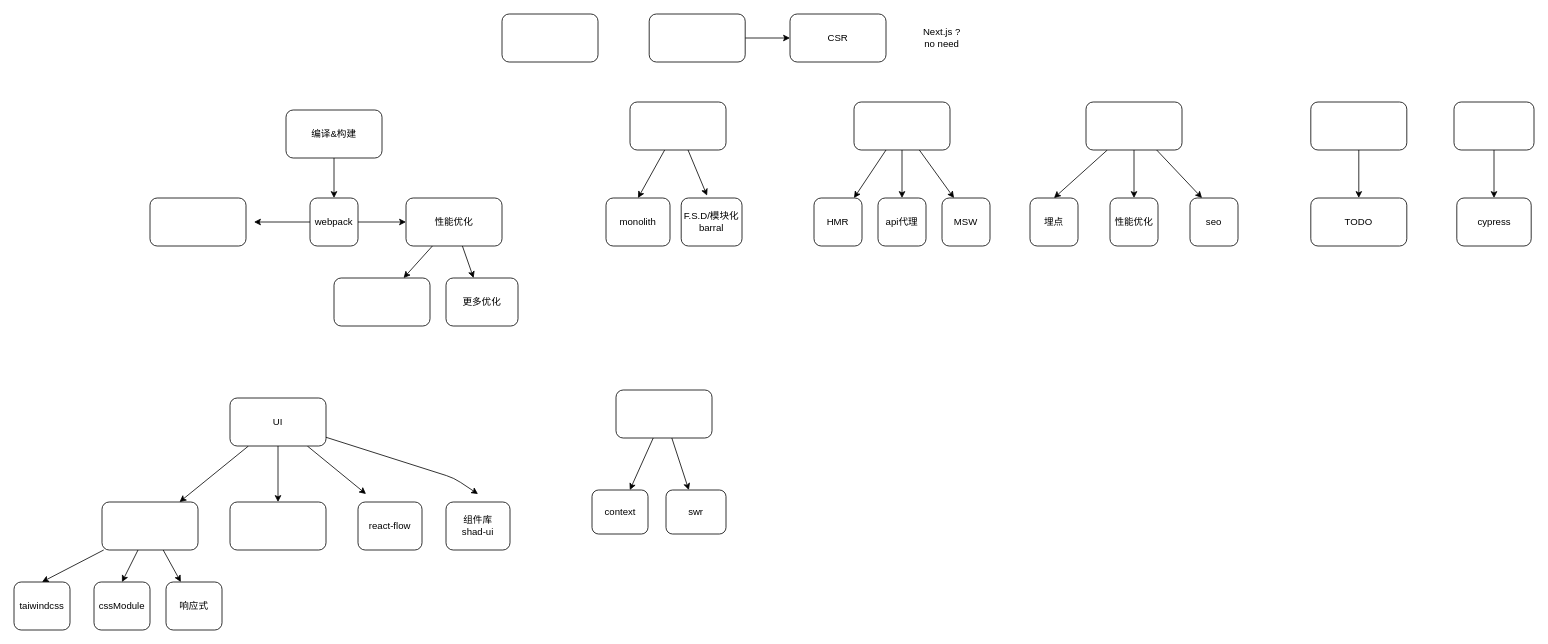
Image size: 1548x644. Some labels were removed from this diagram. The shapes that lost their labels are listed below. From the top down, each one's centre as x and y in pixels, then its label:
the point at 549,37: 前端架构
the point at 696,37: 前端渲染模式
the point at 677,125: 项目代码结构
the point at 901,125: 开发环境
the point at 1133,125: 生产环境
the point at 1358,125: CI/CD
the point at 1493,125: 测试
the point at 197,221: typescript, babel
the point at 381,301: 按需/懒加载/拆分
the point at 663,413: 状态层/接口
the point at 149,525: 样式管理方案
the point at 277,525: react-hook-form
